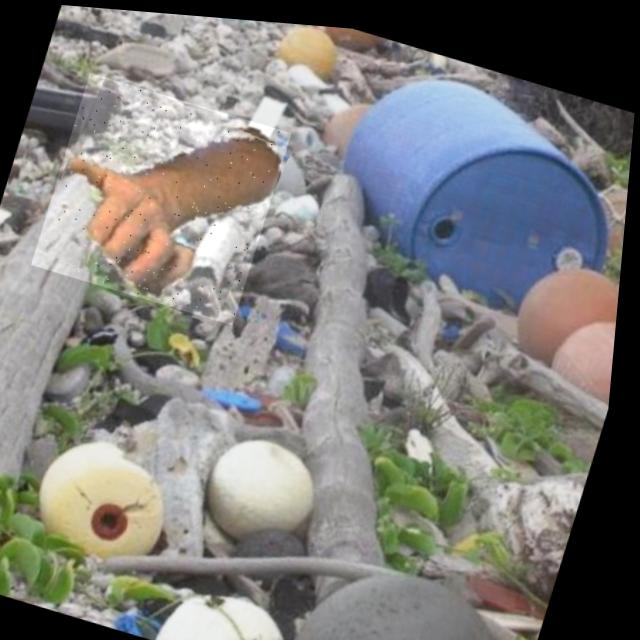Person in Rubble: (32, 68, 296, 323)
